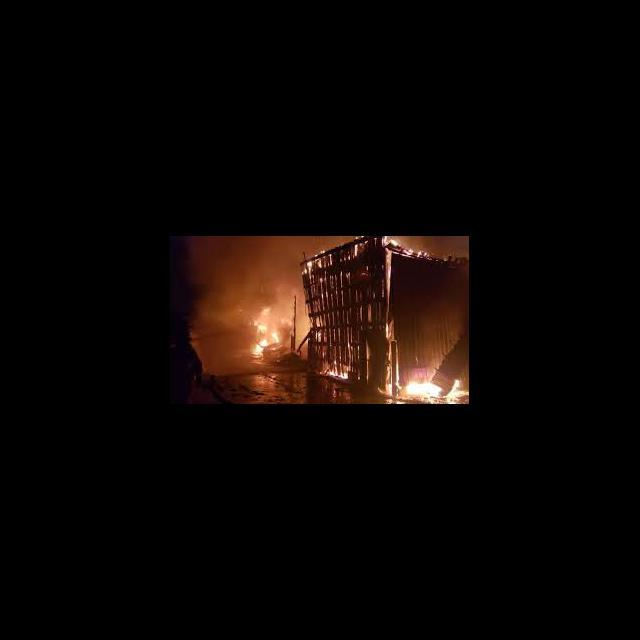Fire: (392, 372, 468, 403), (245, 306, 283, 356)
